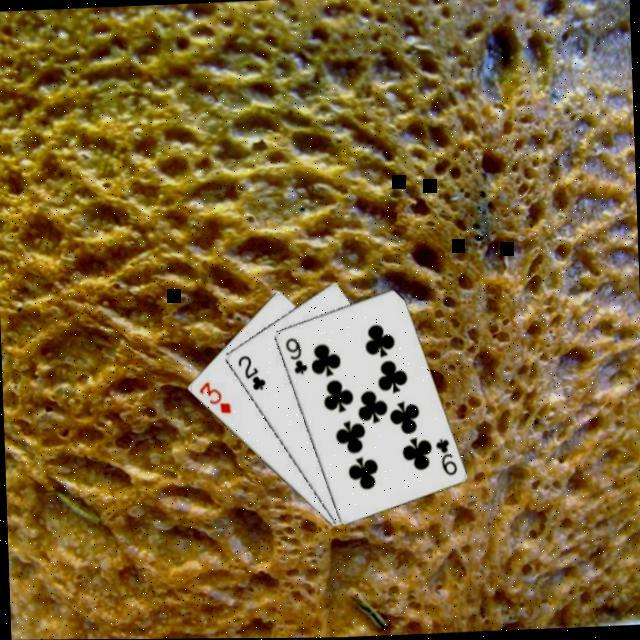2C: (232, 350, 267, 392)
3D: (193, 377, 232, 417)
9C: (431, 433, 458, 478), (281, 334, 308, 377)
